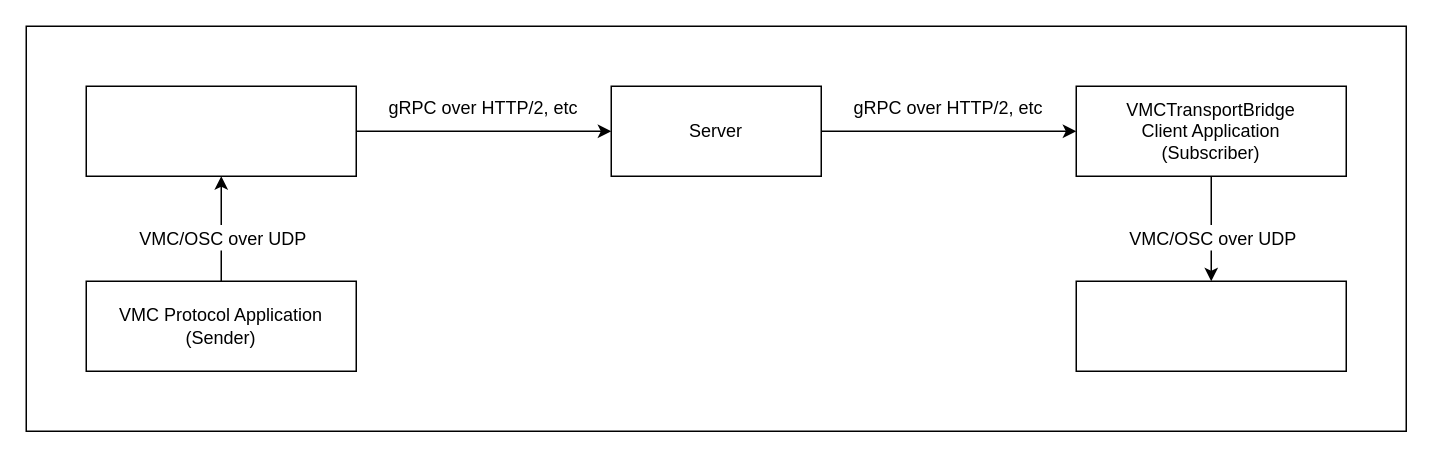
Image size: 1433x458. Some labels were removed from this diagram. The shapes that lost their labels are listed below. From the top down, each one's box as (x1, y1, x2, y2) in pixels, then its label:
(85, 85, 356, 176): VMCTransportBridge Client Application (Publisher)
(1075, 280, 1346, 371): VMC Protocol Application (Receiver)
